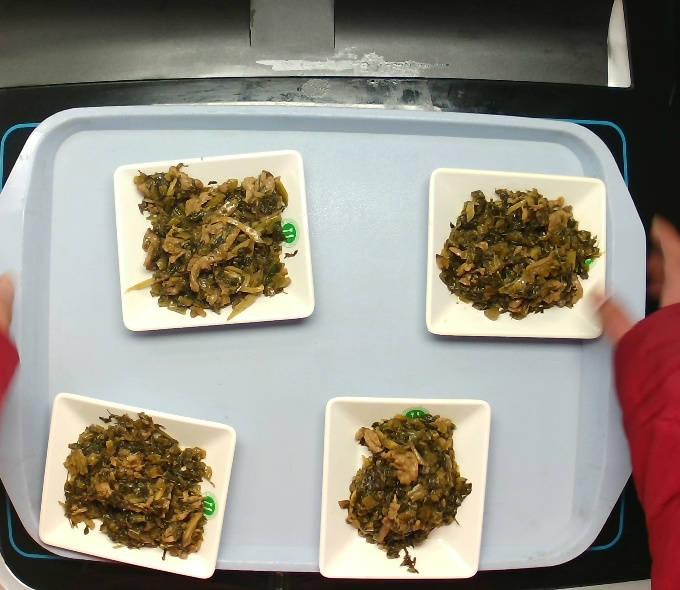wcq-XueCaiRouSi: (124, 147, 301, 332), (44, 407, 223, 565), (437, 183, 596, 325), (340, 412, 478, 564)
